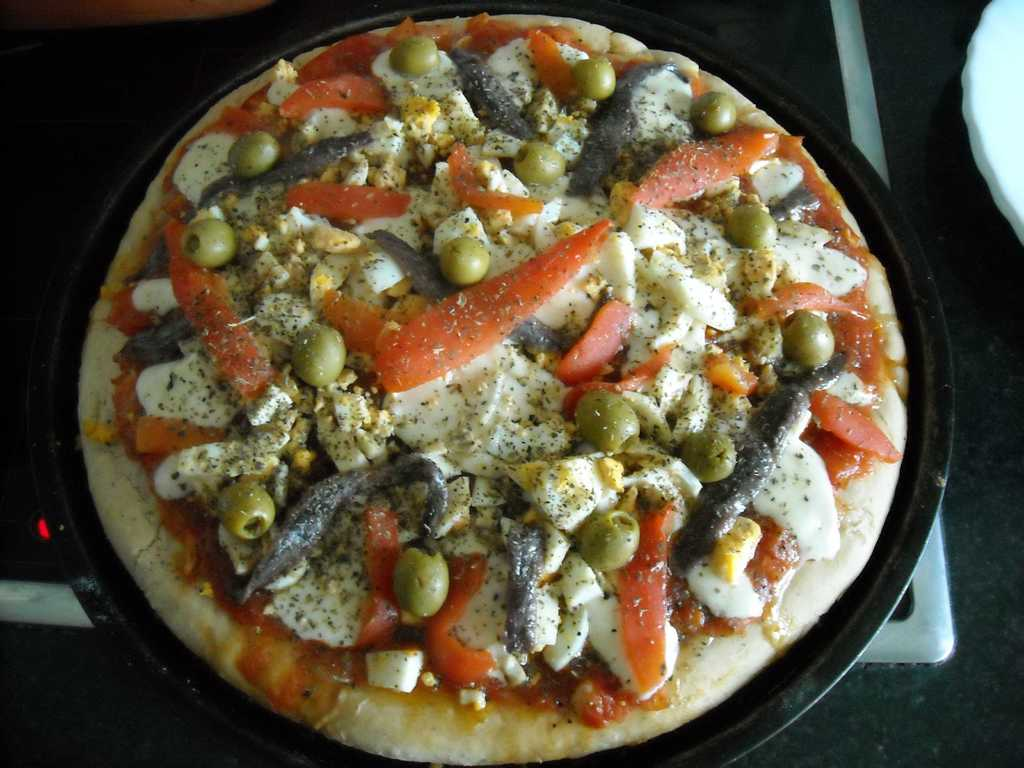Pizza: (37, 7, 981, 759)
